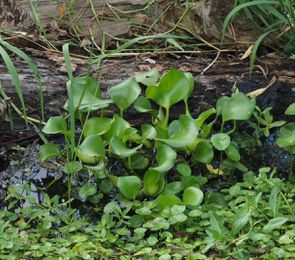water_hyacinth: (40, 62, 259, 236)
